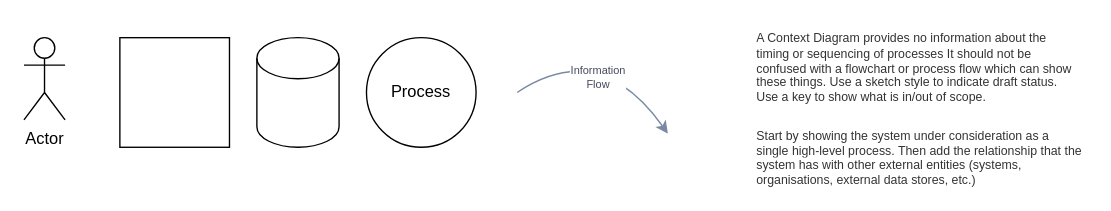
Some shapes in this 1111 by 211 pixel diagram are drawn without their labels. Here are the shapes that lost their labels. From the top down, the box of each, then its label:
(119, 36, 229, 147): System
(256, 36, 339, 147): Datastore
